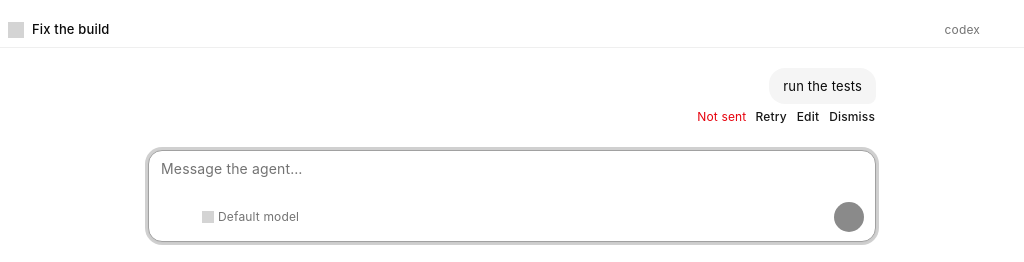
Test: ChatConversation › brings back a message the bridge never confirmed, and sends it again
Check: the text "run the tests" is shown, box x1=769 y1=68 x2=876 y2=104
Check: the text "Not sent" is shown, box x1=697 y1=109 x2=746 y2=124
Click the button "Retry" at (771, 117), box x1=754 y1=108 x2=788 y2=126
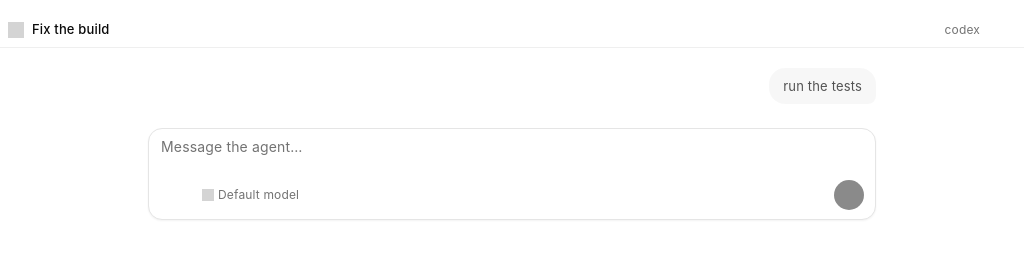
Check: the text "Not sent" is gone
